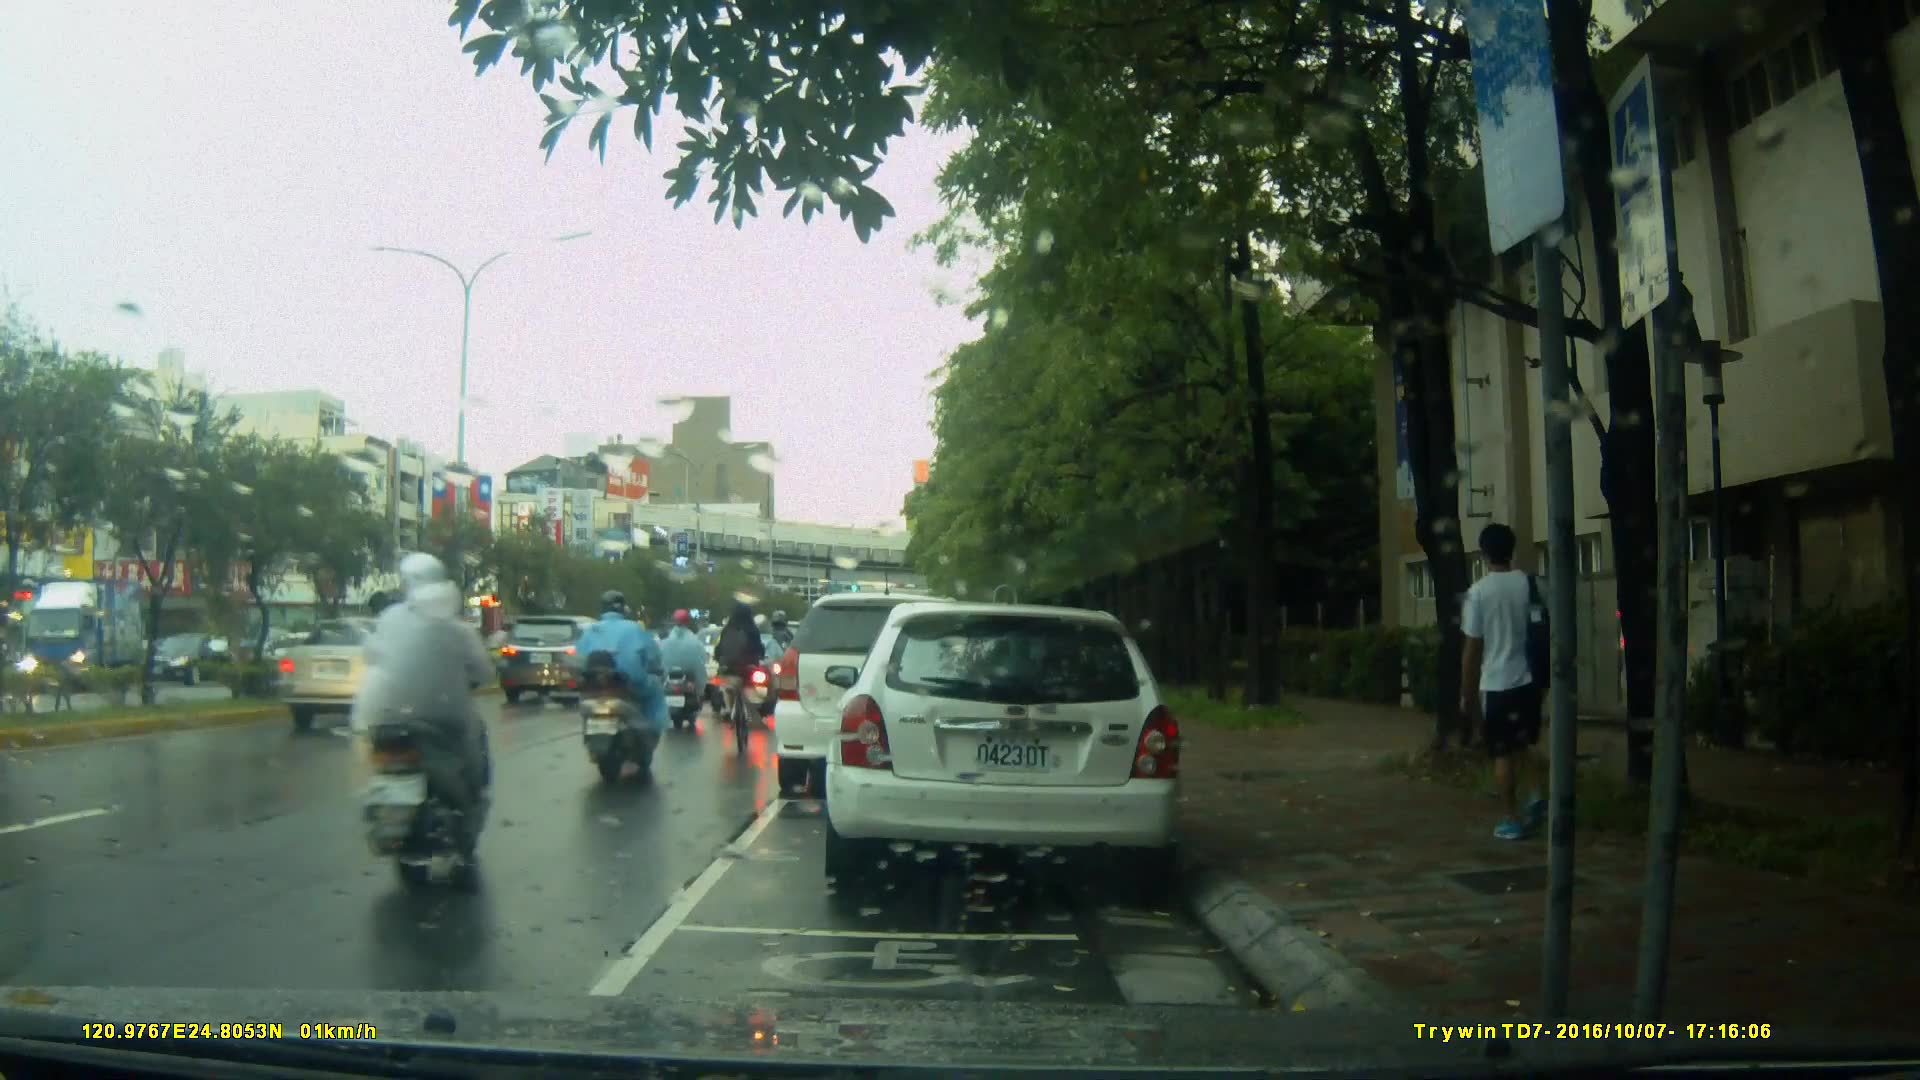pedestrian: (1465, 511, 1579, 879)
rider: (345, 555, 501, 896), (577, 592, 670, 785), (351, 591, 431, 788), (712, 600, 767, 769), (655, 604, 711, 725), (741, 618, 789, 726), (706, 611, 749, 708)
vehicle: (822, 604, 1188, 882), (774, 595, 995, 802), (273, 615, 474, 732), (20, 576, 161, 697), (498, 614, 626, 706), (144, 630, 241, 686)
